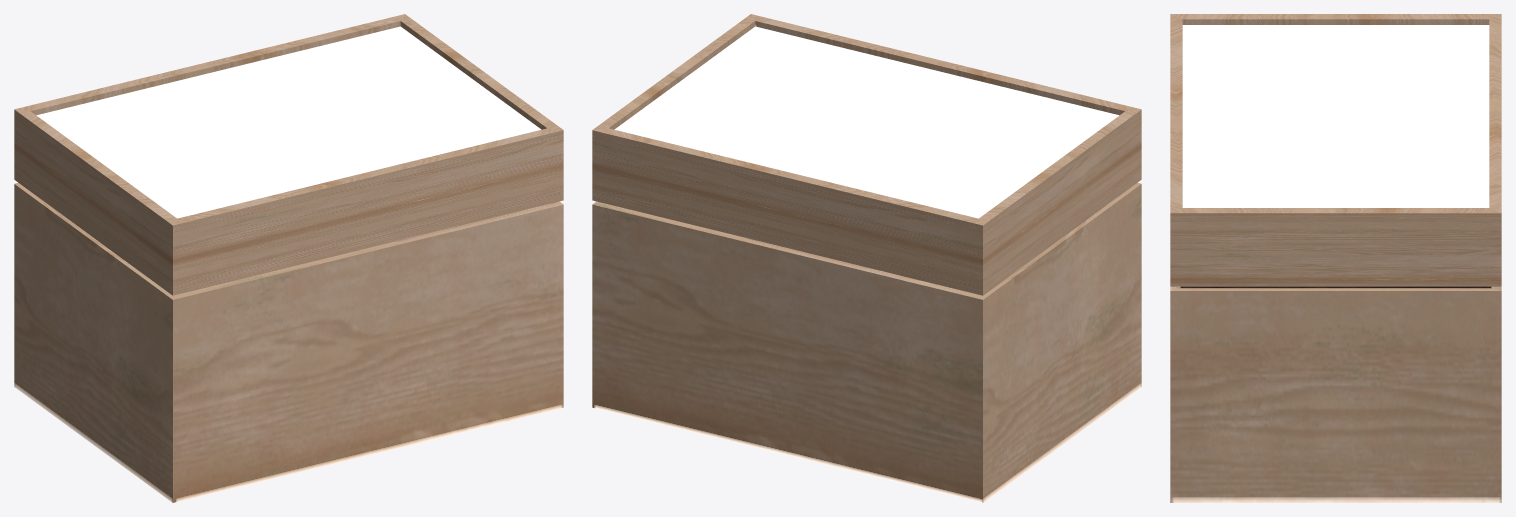
The picture shows the model from 3 angles, left to right: view 1: azimuth 30°, elevation 25°; view 2: azimuth 150°, elevation 25°; view 3: azimuth 270°, elevation 25°; orthographic projection. The views are drawn at different scales.
Parts seen in each view (by area): view 1: Cube_low.005; view 2: Cube_low.005; view 3: Cube_low.005.
Part boxes in pixels (x1=…): Cube_low.005: x1=14, y1=14, x2=563, y2=502; Cube_low.005: x1=592, y1=14, x2=1141, y2=502; Cube_low.005: x1=1170, y1=14, x2=1501, y2=502.
Bounding box in the file's own units: 3.68 × 2.55 × 2.59.
1 material, 1 textured.
